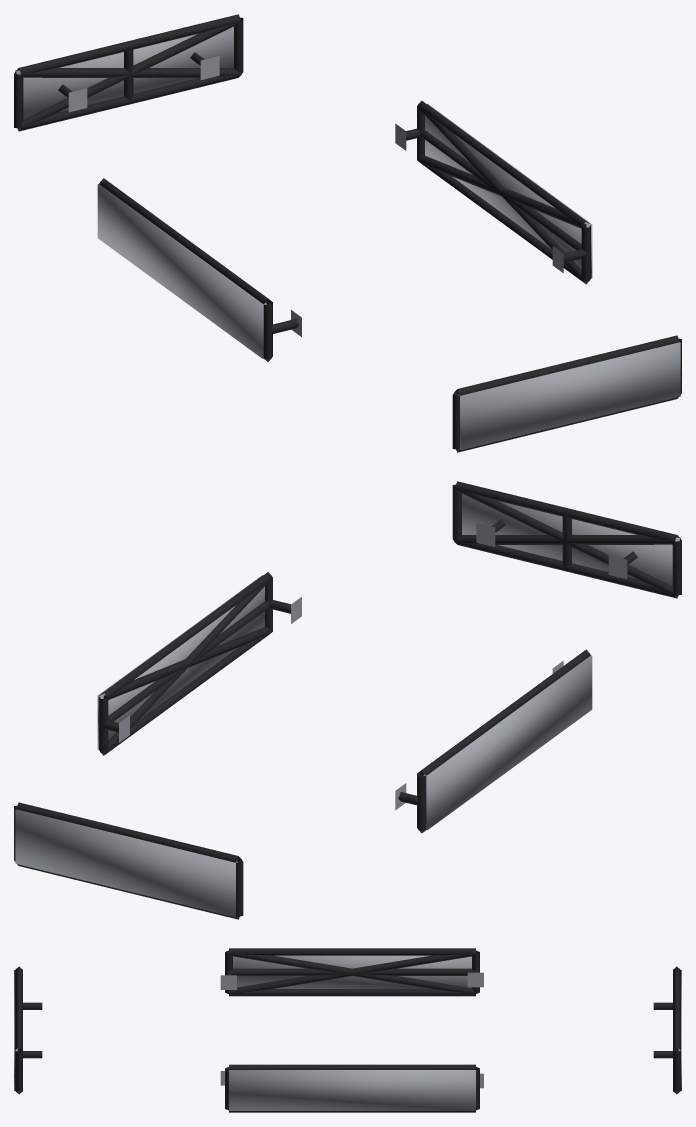
File: volnar_pomar_protecao.glb
3 views of the same model, one above another, from view 1: azimuth 30°, elevation 25°; view 2: azimuth 150°, elevation 25°; view 3: azimuth 270°, elevation 25° (orthographic). The views are drawn at different scales.
Parts seen in each view (by area): view 1: Protection_front_Level3_Details, Protection_left_Level3_Details, Protection_rear_Level1_Details, Protection_rear_Level3_Details, Protection_right_Level1_Details, Protection_right_Level2_Details, Protection_rear_Level2_Details, Protection_right_Level3_Details, Protection_front_Level1_Details, Protection_left_Level1_Details; view 2: Protection_rear_Level3_Details, Protection_left_Level3_Details, Protection_front_Level1_Details, Protection_front_Level3_Details, Protection_right_Level1_Details, Protection_right_Level2_Details, Protection_front_Level2_Details, Protection_right_Level3_Details, Protection_rear_Level1_Details, Protection_left_Level1_Details; view 3: Protection_right_Level3_Details, Protection_left_Level2_Details, Protection_left_Level1_Details, Protection_left_Level3_Details, Protection_right_Level1_Details, Protection_rear_Level1_Details, Protection_front_Level1_Details.
Boxes of the visible parts, x1,y1,x2,y2 form: Protection_front_Level3_Details: [458, 342, 680, 450]; Protection_left_Level3_Details: [97, 184, 266, 358]; Protection_rear_Level1_Details: [14, 14, 243, 131]; Protection_rear_Level3_Details: [15, 26, 233, 119]; Protection_right_Level1_Details: [395, 100, 590, 284]; Protection_right_Level2_Details: [417, 106, 589, 283]; Protection_rear_Level2_Details: [16, 21, 240, 130]; Protection_right_Level3_Details: [425, 104, 592, 278]; Protection_front_Level1_Details: [452, 335, 681, 452]; Protection_left_Level1_Details: [99, 178, 301, 361]; Protection_rear_Level3_Details: [15, 809, 237, 917]; Protection_left_Level3_Details: [423, 655, 592, 829]; Protection_front_Level1_Details: [452, 481, 681, 598]; Protection_front_Level3_Details: [462, 493, 680, 586]; Protection_right_Level1_Details: [99, 572, 301, 755]; Protection_right_Level2_Details: [100, 578, 272, 755]; Protection_front_Level2_Details: [455, 488, 679, 597]; Protection_right_Level3_Details: [97, 575, 264, 749]; Protection_rear_Level1_Details: [14, 802, 243, 919]; Protection_left_Level1_Details: [395, 649, 590, 833]; Protection_right_Level3_Details: [229, 1070, 475, 1110]; Protection_left_Level2_Details: [228, 951, 476, 994]; Protection_left_Level1_Details: [220, 948, 483, 996]; Protection_left_Level3_Details: [233, 955, 471, 988]; Protection_right_Level1_Details: [220, 1064, 483, 1112]; Protection_rear_Level1_Details: [653, 966, 680, 1094]; Protection_front_Level1_Details: [15, 966, 42, 1094].
Size of the model in its own units: 1.92 by 0.354 by 4.49.
1 material, 1 textured.
